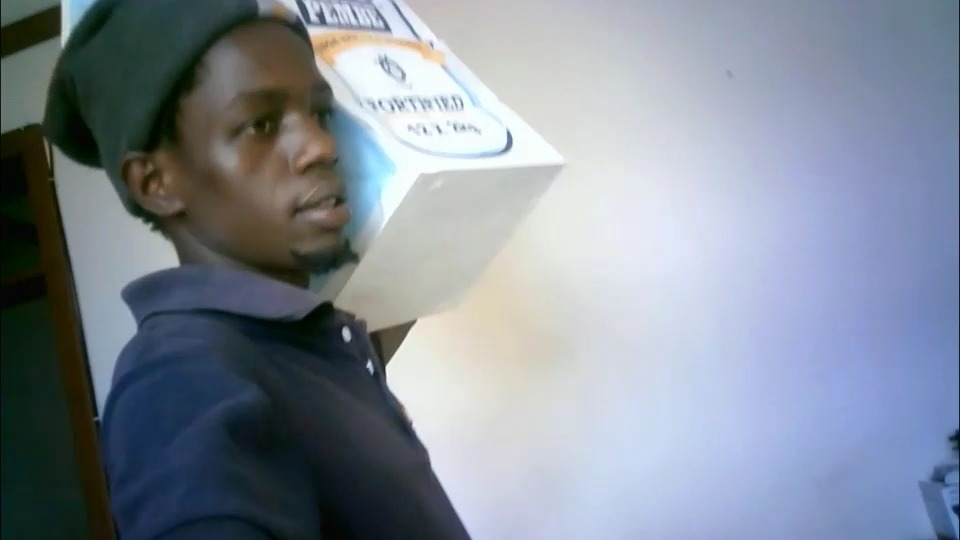wheat_flour_blue_label: (285, 0, 570, 339)
